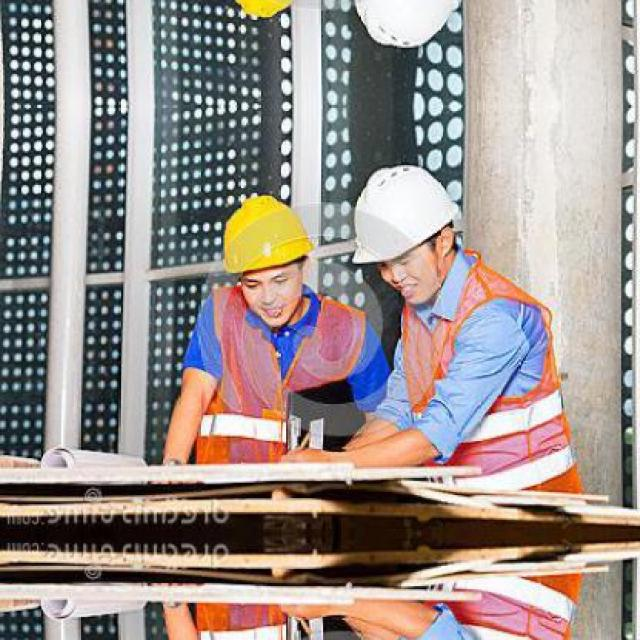Reflective-Jacket: (394, 267, 578, 493), (197, 288, 369, 464)
Safety-Helmet: (346, 159, 463, 268), (211, 190, 320, 279)
